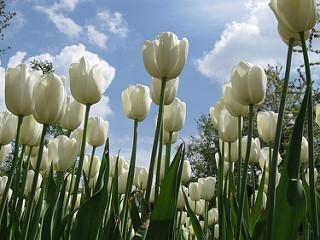tulip: (67, 54, 116, 106), (141, 31, 189, 81), (4, 63, 43, 117), (33, 76, 67, 126), (229, 61, 267, 105), (271, 0, 318, 31), (209, 102, 242, 142), (121, 83, 151, 123), (48, 136, 78, 171), (223, 86, 252, 119), (255, 110, 282, 143), (151, 73, 178, 104), (276, 22, 310, 45), (0, 111, 19, 151), (163, 99, 185, 130), (87, 115, 109, 144), (198, 174, 216, 201), (110, 154, 125, 177), (180, 160, 193, 181)
